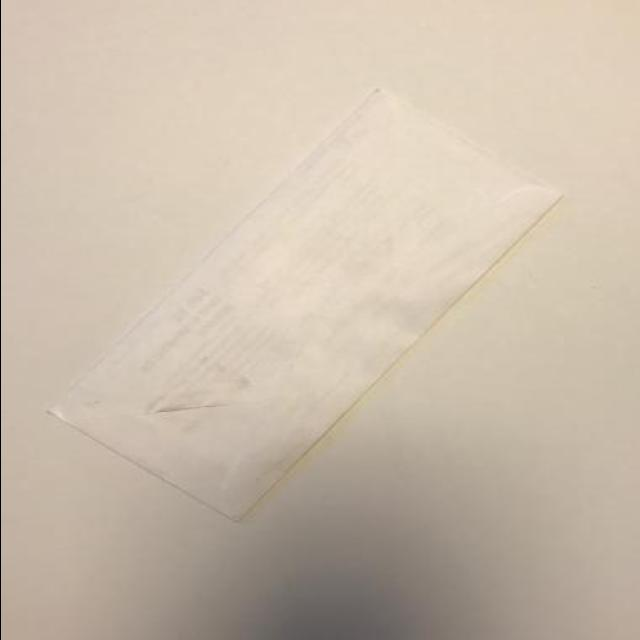kertas: (42, 80, 565, 525)
